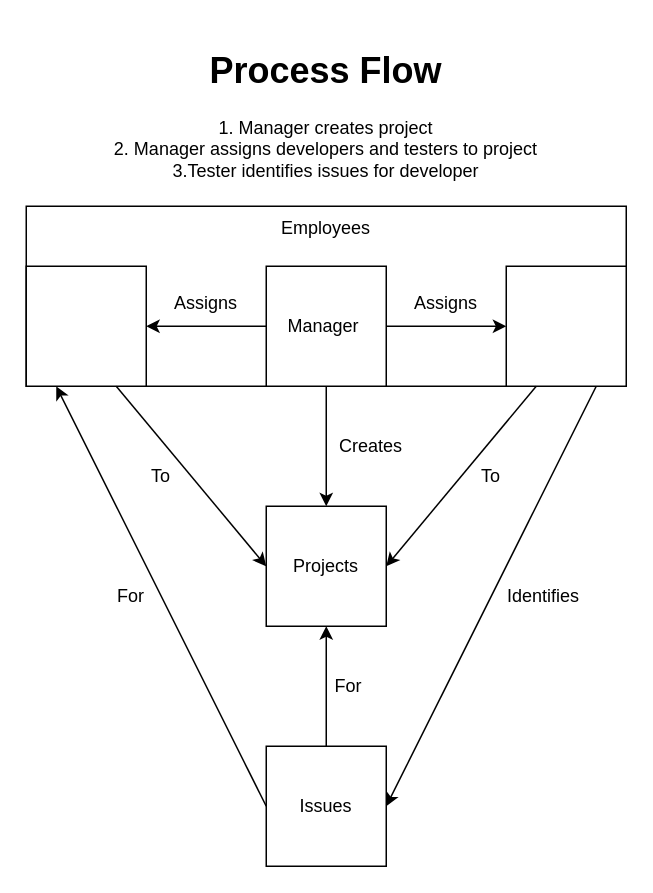
Some shapes in this 653 by 893 pixel diagram are drawn without their labels. The shapes that lost their labels are listed below. From the top down, each one's centre as x and y in pixels, then its label:
At (85,325): "Developer".
At (565,325): "Tester".
